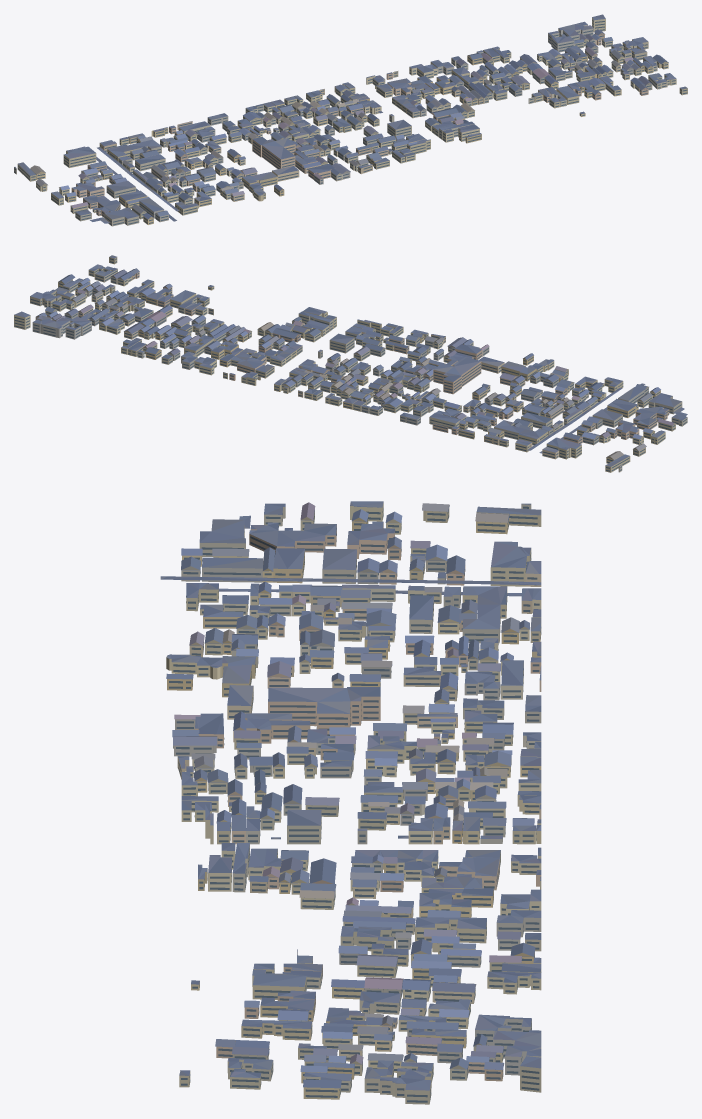
The model's file is ART_EastHikoneSouth.glb.
3 views of the same model, one above another, from view 1: azimuth 30°, elevation 25°; view 2: azimuth 150°, elevation 25°; view 3: azimuth 270°, elevation 25° (orthographic). The views are drawn at different scales.
Visible parts, largest first — view 1: ART_EastHikoneSouth; view 2: ART_EastHikoneSouth; view 3: ART_EastHikoneSouth.
Part boxes in pixels (box(x1,y1,x2,y2)): ART_EastHikoneSouth: box(14, 14, 687, 226); ART_EastHikoneSouth: box(14, 255, 687, 472); ART_EastHikoneSouth: box(160, 501, 541, 1104).
Bounding box in the file's own units: 676 × 13 × 185.
